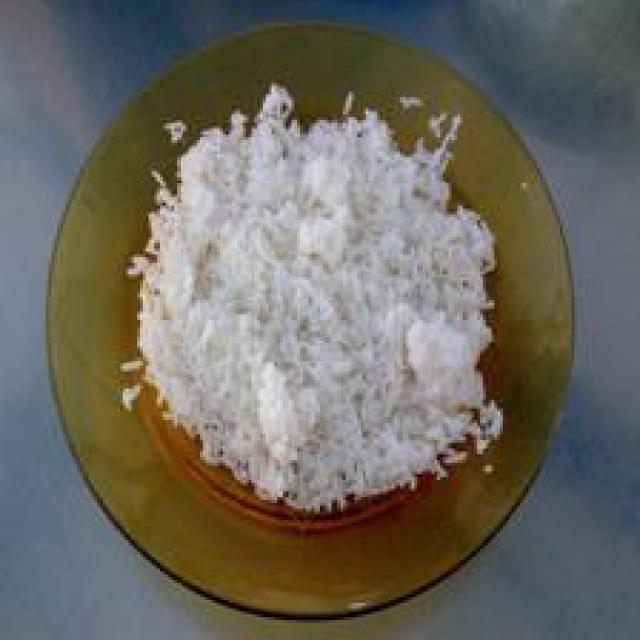Wet Waste: (120, 74, 498, 510)
